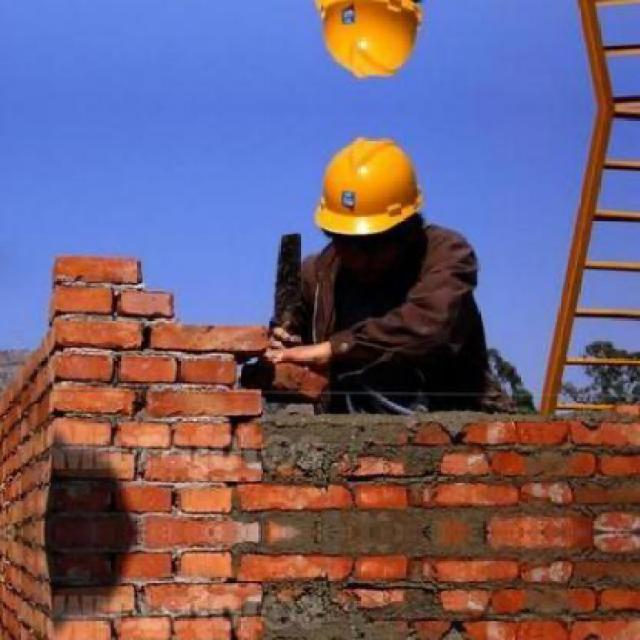helmet: (311, 128, 429, 268), (309, 0, 429, 86)
